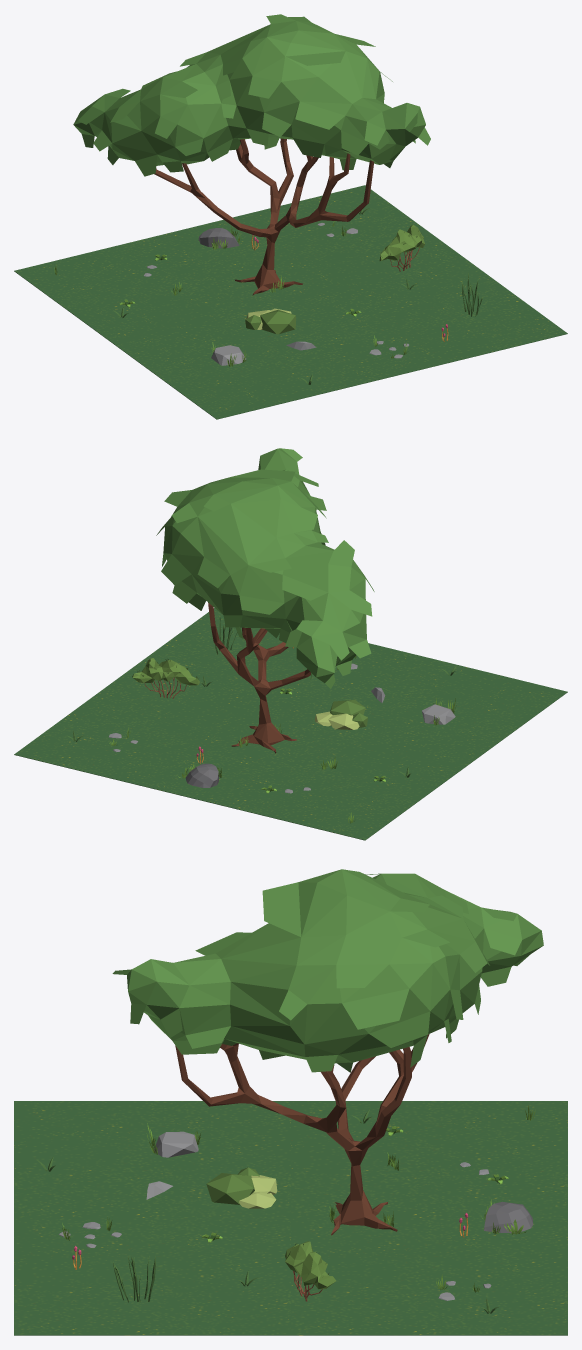
The picture shows the model from 3 angles, top to bottom: view 1: azimuth 30°, elevation 25°; view 2: azimuth 150°, elevation 25°; view 3: azimuth 270°, elevation 25°; orthographic projection. The views are drawn at different scales.
Parts seen in each view (by area): view 1: EP_11; view 2: EP_11; view 3: EP_11.
Part boxes in pixels (left/top/right/bottom): EP_11: left=14, top=14, right=567, bottom=419; EP_11: left=14, top=448, right=567, bottom=840; EP_11: left=14, top=869, right=567, bottom=1335.
Size of what is drawn, in the model's own units: 16 by 11.28 by 16.
1 material, 1 textured.
